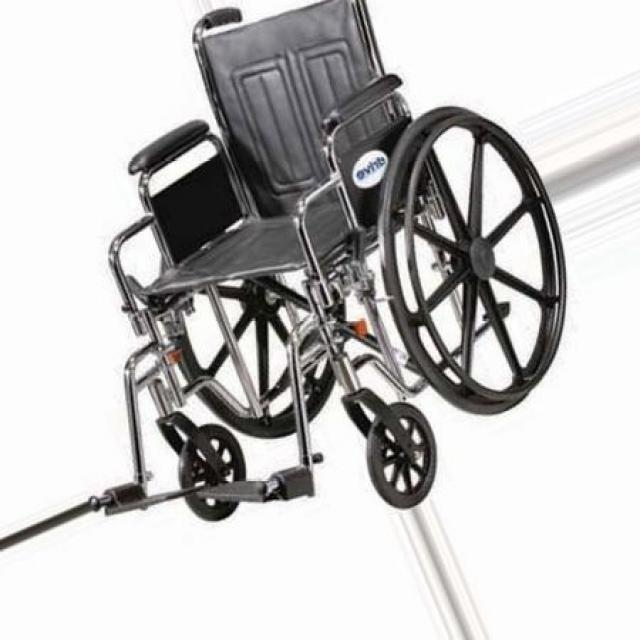wheelchair: (59, 0, 581, 543)
